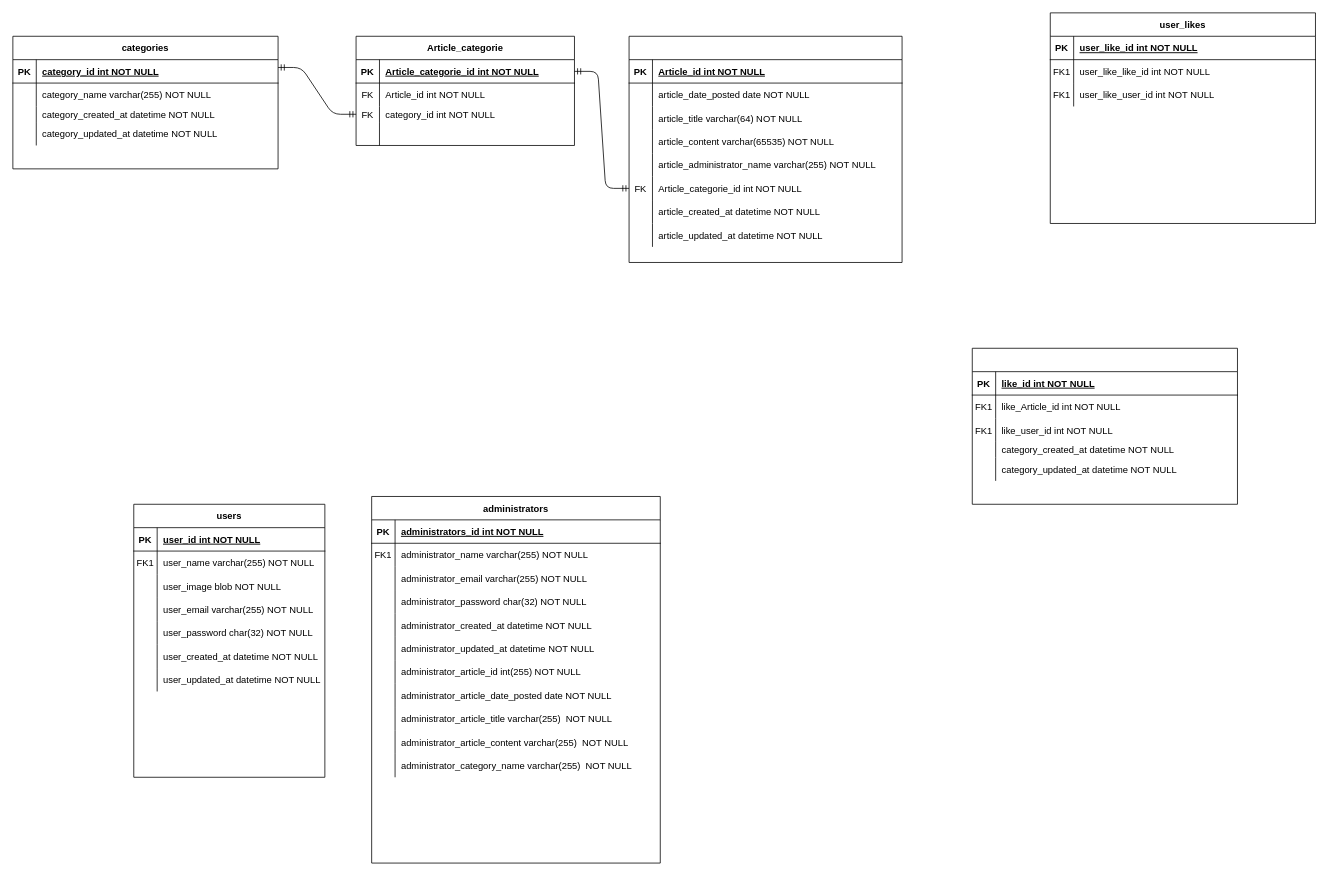
Some shapes in this 1328 by 876 pixel diagram are drawn without their labels. Here are the shapes that lost their labels. From the top down, the box of each, then its label:
(628, 35, 902, 262): Articles
(971, 347, 1237, 504): likes
